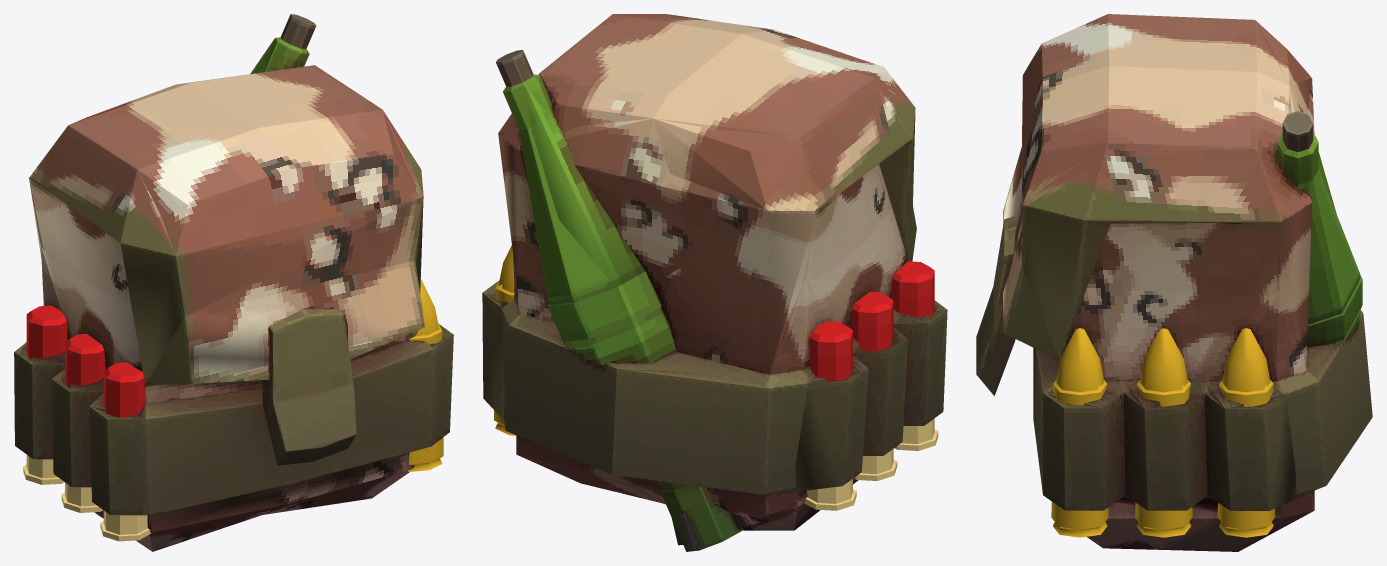
Rendered from item_ammo_pouch.glb.
3 views of the same model, side by side, from view 1: azimuth 30°, elevation 25°; view 2: azimuth 150°, elevation 25°; view 3: azimuth 270°, elevation 25° (orthographic). The views are drawn at different scales.
Visible parts, largest first — view 1: AmmoPouch; view 2: AmmoPouch; view 3: AmmoPouch.
Boxes of the visible parts, x1,y1,x2,y2 form: AmmoPouch: (14, 14, 453, 551); AmmoPouch: (482, 14, 947, 551); AmmoPouch: (976, 14, 1372, 551).
Size of the model in its own units: 0.1791 by 0.211 by 0.1649.
Materials: 1 (1 with a texture image).
